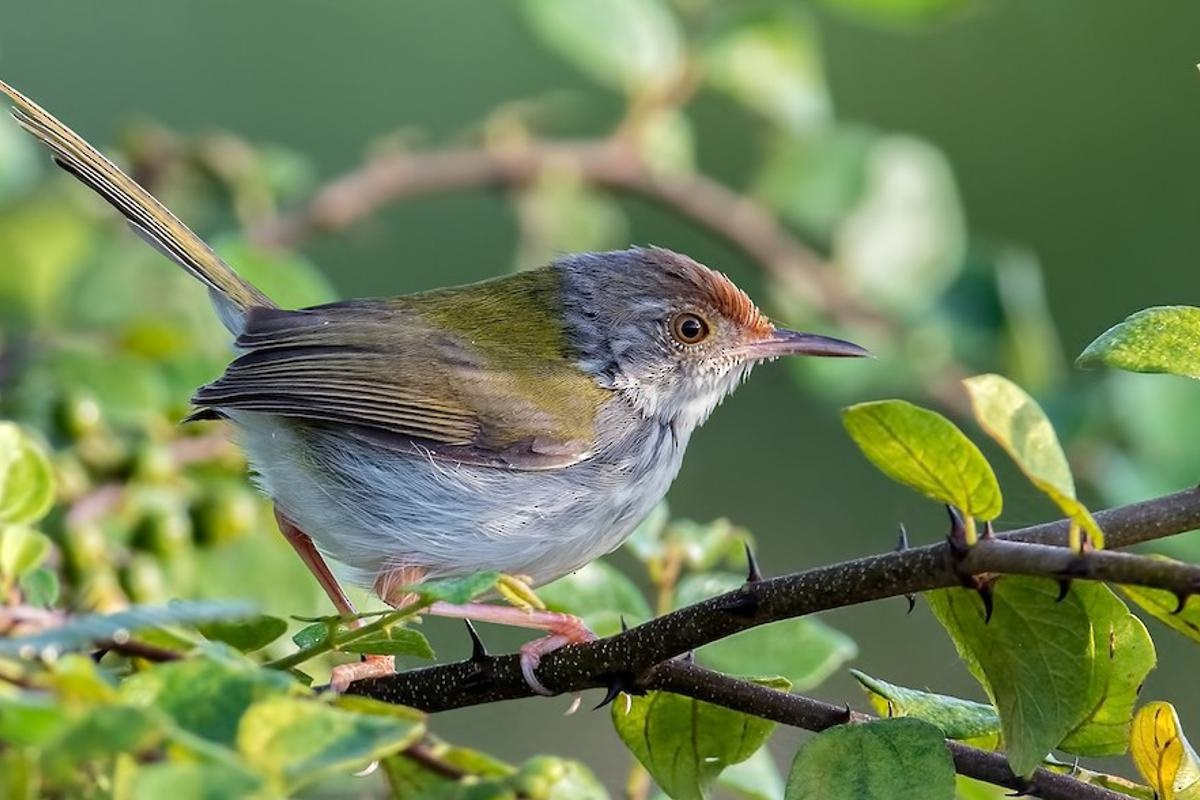tailorbird: (43, 113, 879, 651)
